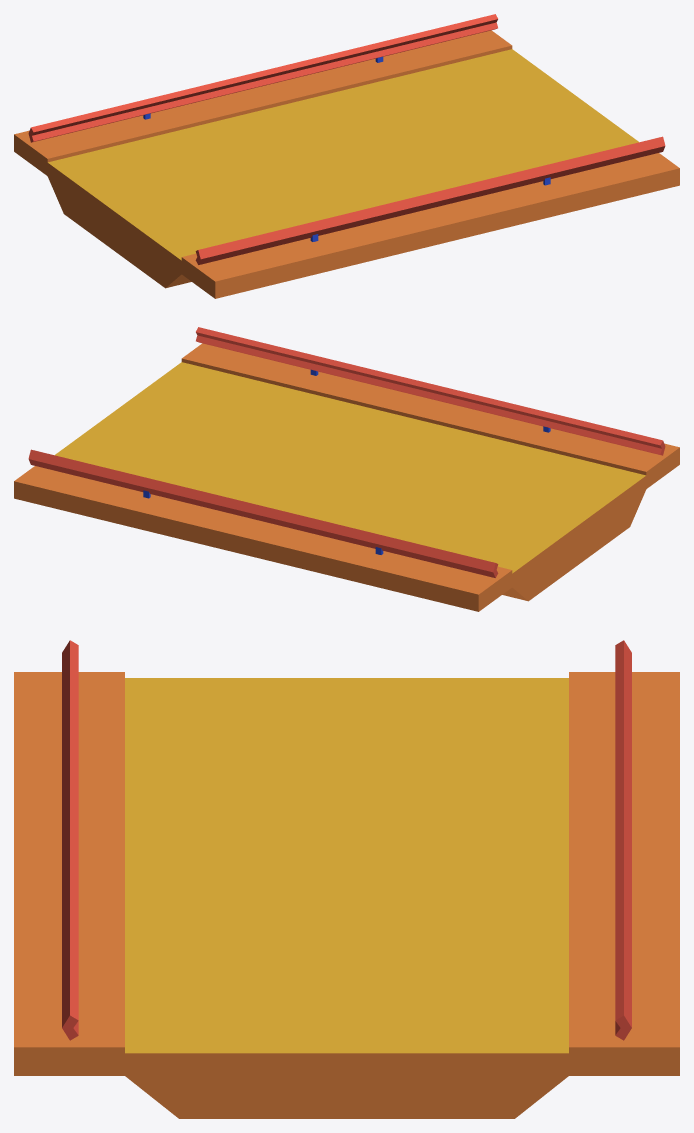
File: BridgeNormalFBX.fbx
3 views of the same model, one above another, from view 1: azimuth 30°, elevation 25°; view 2: azimuth 150°, elevation 25°; view 3: azimuth 270°, elevation 25° (orthographic). The views are drawn at different scales.
Parts seen in each view (by area): view 1: BridgeNormal; view 2: BridgeNormal; view 3: BridgeNormal.
Boxes of the visible parts, x1,y1,x2,y2 form: BridgeNormal: [14, 14, 679, 298]; BridgeNormal: [14, 327, 679, 611]; BridgeNormal: [14, 640, 679, 1118].
Bounding box in the file's own units: 100 × 12.86 × 75.
